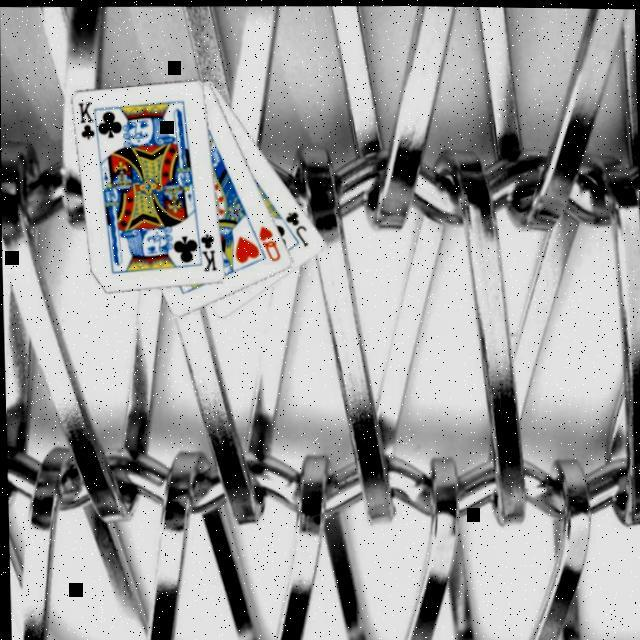JC: (282, 208, 312, 250)
KC: (193, 228, 220, 274), (76, 100, 102, 146)
QH: (256, 222, 284, 264)
